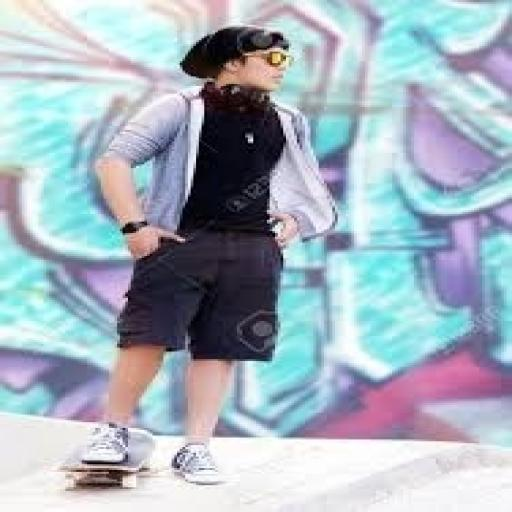listening_to_music: (76, 23, 343, 487)
